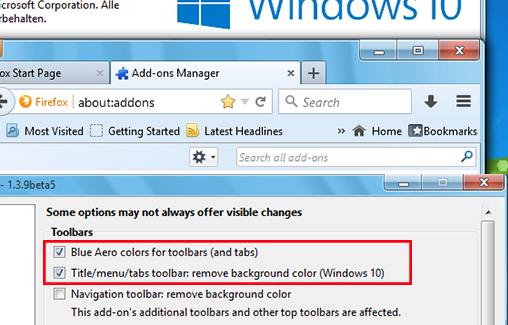close: (437, 37, 481, 62), (462, 172, 505, 191), (280, 64, 299, 82), (90, 65, 107, 81)
